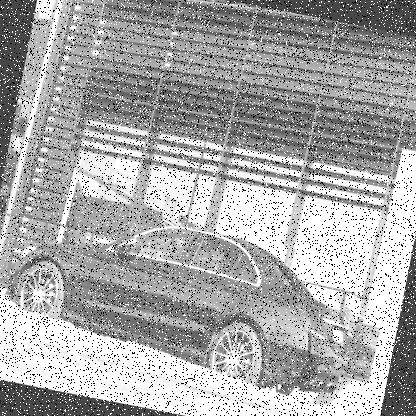Car: (0, 196, 362, 407)
